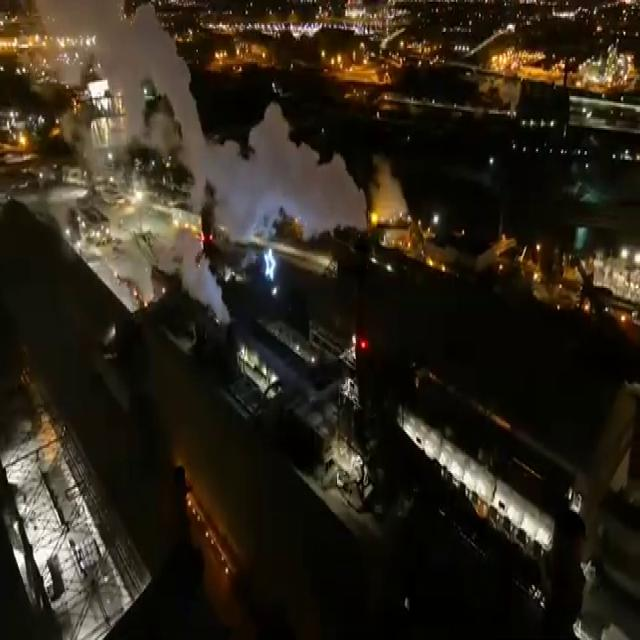smoke: (185, 107, 365, 235), (64, 0, 174, 155), (143, 206, 231, 345)
